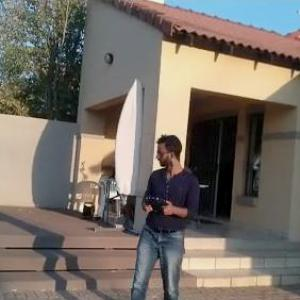follow: (119, 132, 202, 299)
